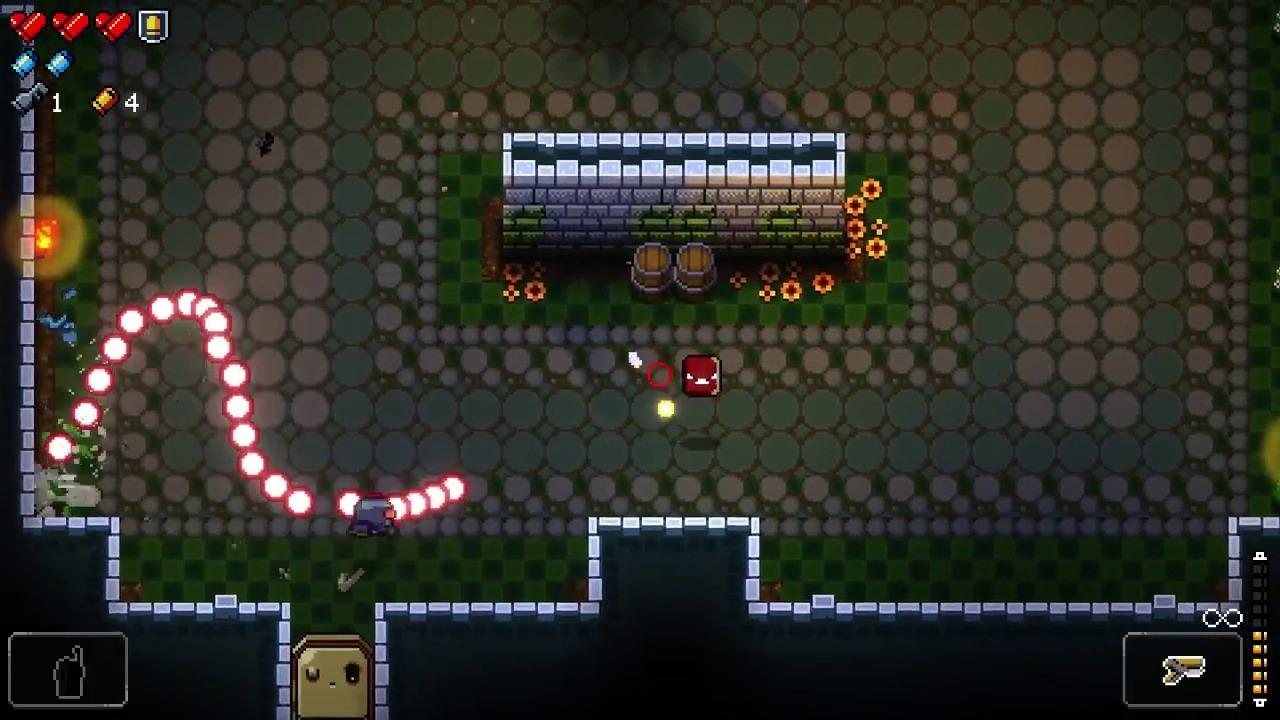bookllet_r: (681, 355, 722, 400)
bullet: (222, 392, 254, 423), (174, 286, 203, 319), (421, 479, 448, 513), (203, 333, 233, 363), (399, 490, 429, 520), (384, 496, 415, 525), (335, 490, 368, 516), (117, 305, 145, 335), (286, 487, 314, 517), (229, 421, 259, 449), (221, 361, 251, 389), (262, 473, 292, 500), (441, 474, 468, 504), (202, 310, 233, 336), (47, 435, 74, 463), (74, 400, 101, 427), (240, 451, 267, 478), (86, 369, 114, 394), (150, 296, 178, 320), (104, 337, 129, 361)
locked_door: (291, 634, 376, 720)
player: (349, 499, 396, 539)
wall: (503, 133, 846, 266)
